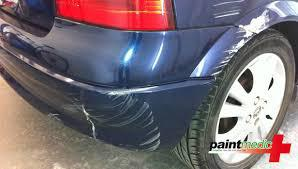quaterpanel-dent: (186, 0, 297, 48)
rear-bumper-dent: (20, 69, 198, 151)
